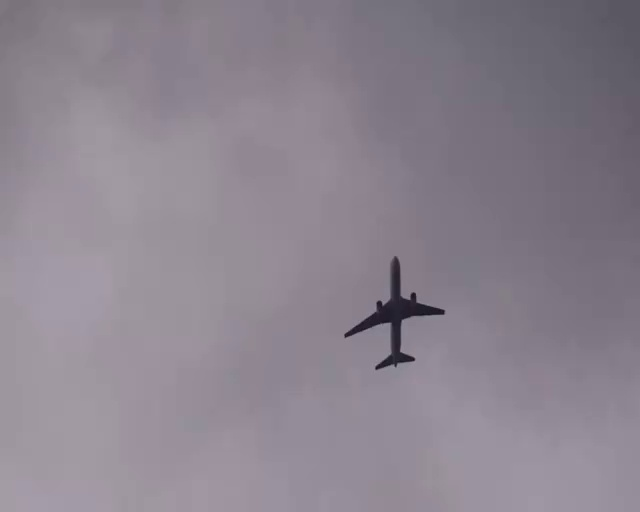AIRPLANE: (345, 255, 445, 370)
